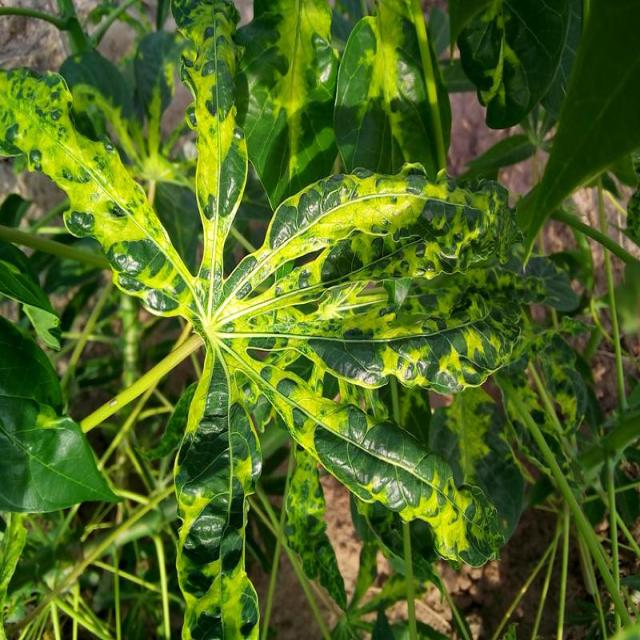cassava leaf: (1, 1, 579, 637)
